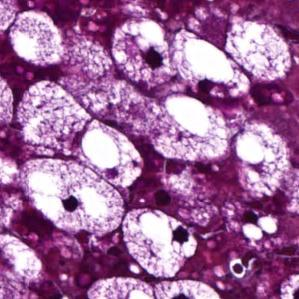ballooning: (19, 153, 127, 237), (170, 26, 252, 106), (118, 205, 199, 280), (15, 78, 93, 154), (109, 18, 176, 94), (222, 14, 295, 83)
